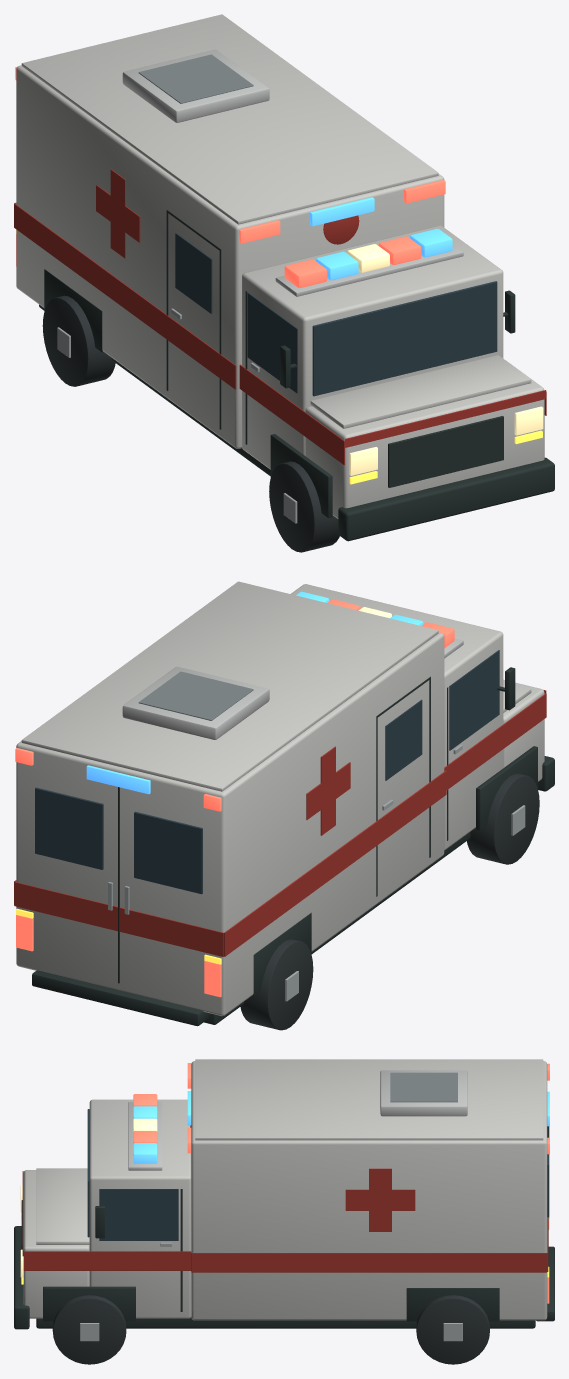
Rendered from ambulance.glb.
3 renders of one model, top to bottom at view 1: azimuth 30°, elevation 25°; view 2: azimuth 150°, elevation 25°; view 3: azimuth 270°, elevation 25°, orthographic. The views are drawn at different scales.
Visible parts, largest first — view 1: ambulance; view 2: ambulance; view 3: ambulance.
Boxes of the visible parts, x1,y1,x2,y2 form: ambulance: [14, 14, 554, 552]; ambulance: [14, 581, 554, 1030]; ambulance: [14, 1059, 554, 1364].
Size of the model in its own units: 2.2 by 2.66 by 5.58.
